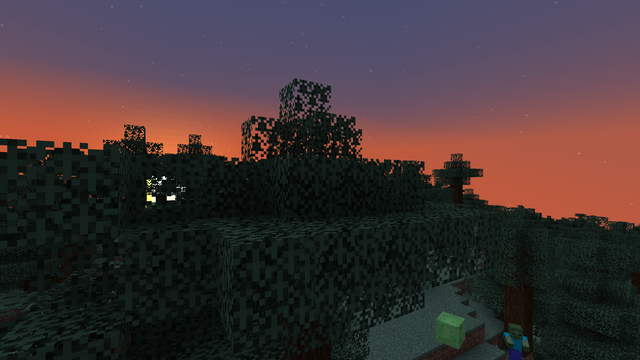slimes: (433, 310, 466, 349)
zombies: (506, 322, 524, 358)
